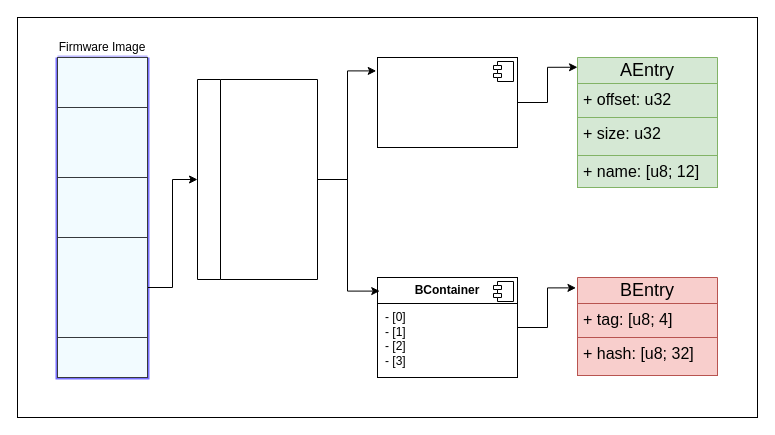
The diagram is 775 pixels wide and 435 high, and some of its shapes have lost their labels. Each missing label, with the centre of its shape:
AContainer - [0] - [1] - [2]: pixel 447 102
Container: pixel 257 179
